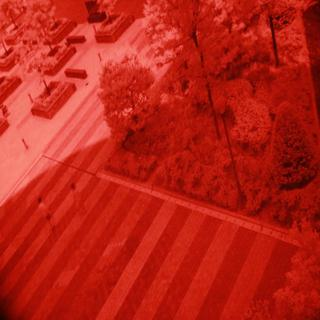person: (31, 190, 59, 237), (65, 174, 85, 217)
